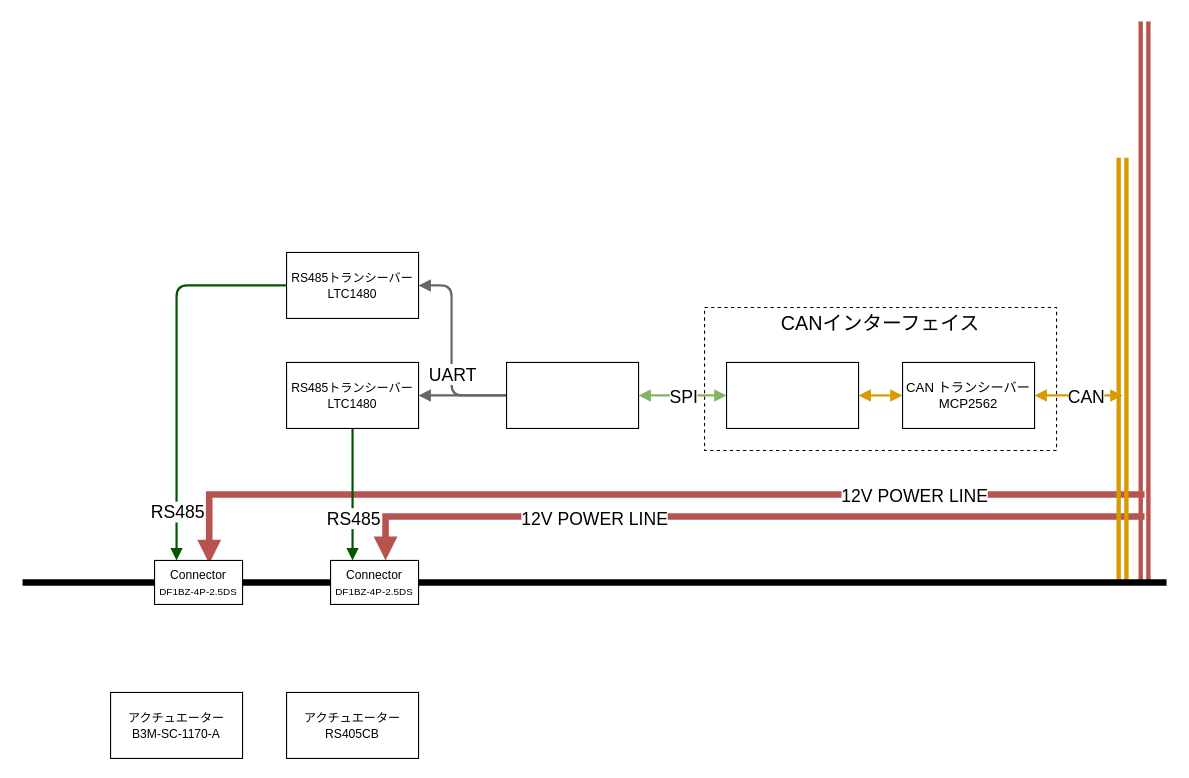
The diagram is 1189 pixels wide and 778 high, and some of its shapes have lost their labels. The shapes that lost their labels are listed below. From the top down, each one's box as (x1, y1, x2, y2) in pixels, then its label:
(505, 361, 639, 428): Arduino Nano Every
(725, 361, 859, 428): CAN コントローラー MCP2515
